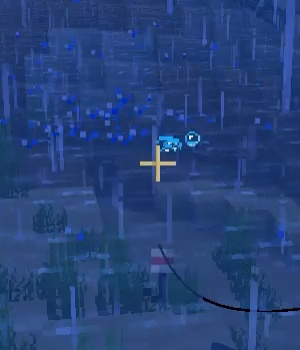down: (140, 243, 176, 308)
